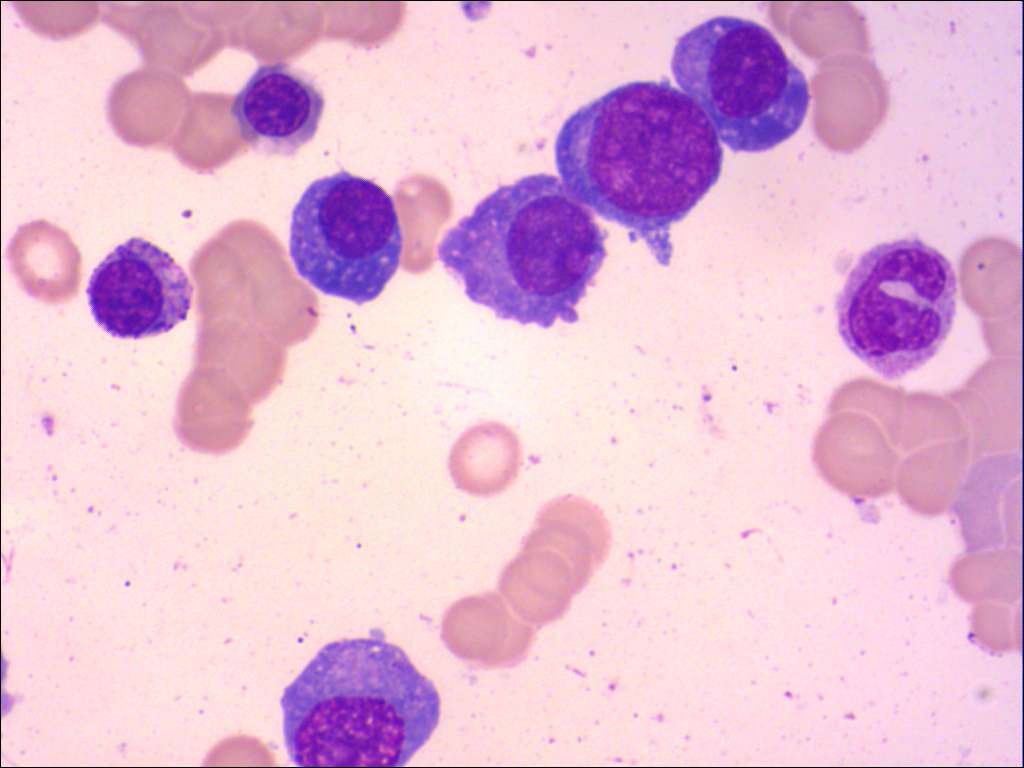21: (552, 76, 726, 232)
23: (228, 59, 330, 161)
42: (832, 233, 962, 384)
51: (434, 172, 614, 333), (276, 635, 443, 768), (667, 11, 814, 156), (286, 166, 406, 308)
x: (83, 235, 196, 343)
